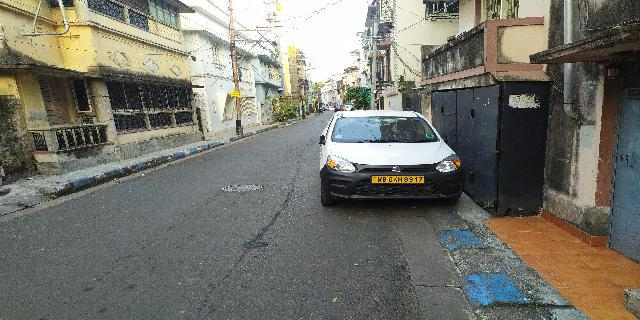Car: (318, 106, 463, 208)
